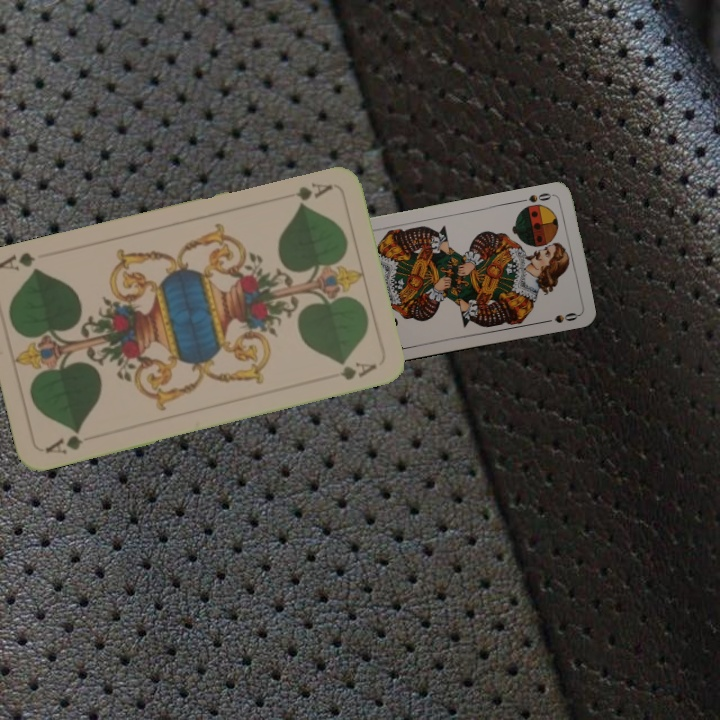GA: (41, 426, 85, 457), (292, 178, 336, 208)
SO: (525, 189, 557, 205)
